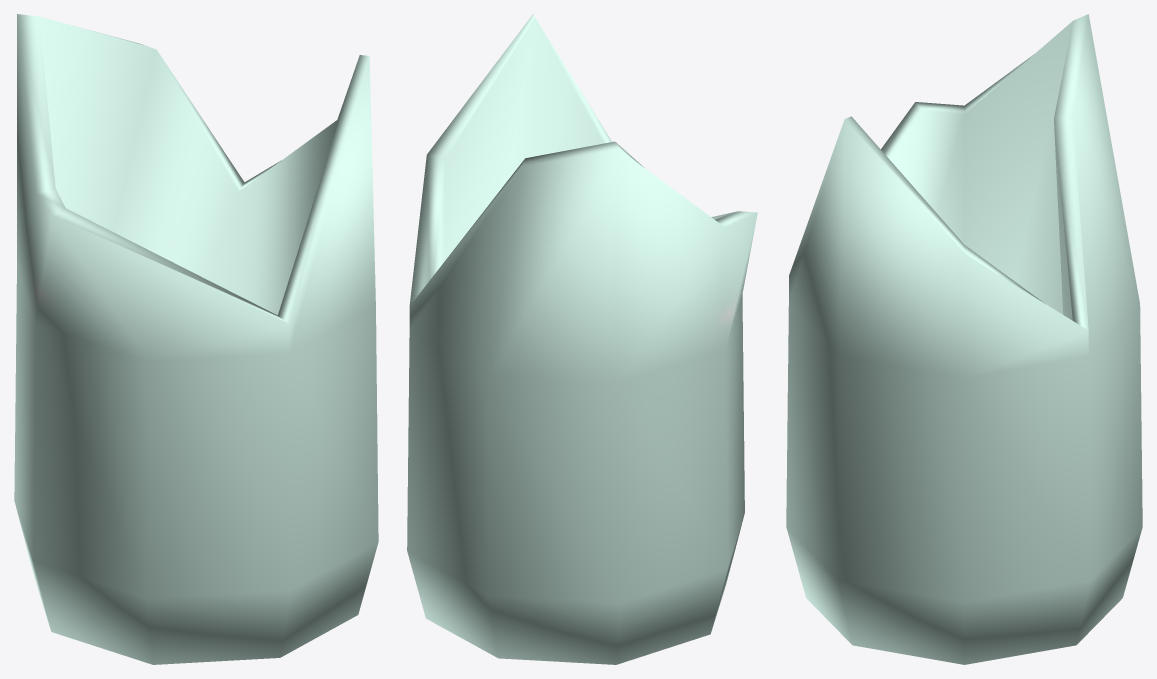
The model's file is BrokenBottle.fbx.
3 views of the same model, side by side, from view 1: azimuth 30°, elevation 25°; view 2: azimuth 150°, elevation 25°; view 3: azimuth 270°, elevation 25° (orthographic). The views are drawn at different scales.
Parts seen in each view (by area): view 1: BrokenBottle; view 2: BrokenBottle; view 3: BrokenBottle.
Part boxes in pixels (x1,y1,x2,y2): BrokenBottle: (14, 14, 378, 664); BrokenBottle: (407, 14, 757, 664); BrokenBottle: (786, 14, 1142, 664).
Bounding box in the file's own units: 0.2012 × 0.3266 × 0.1971.
